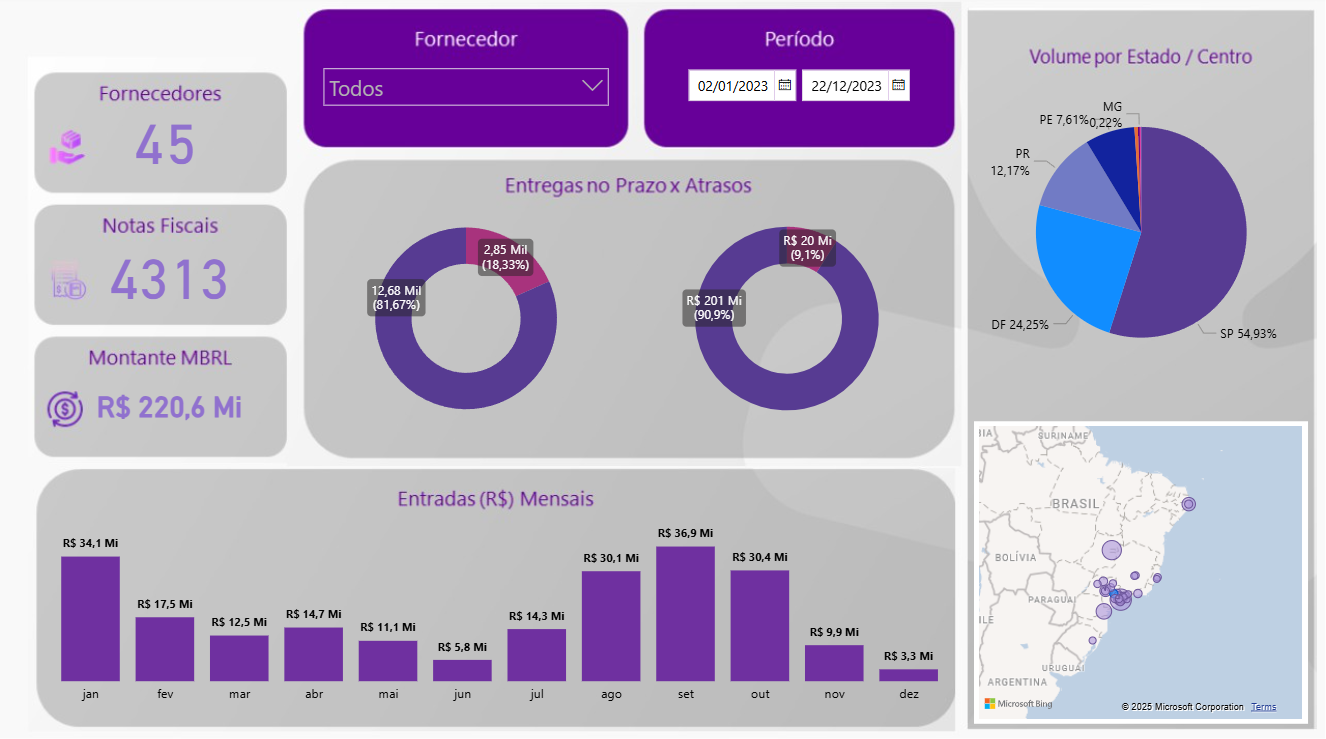

The page's visual inventory and layout, read from the dashboard file:
{"tool":"powerbi","page":{"name":"Dashboard","canvas":[1280,720],"ordinal":0},"visuals":[{"type":"slicer","fields":{"Values":["Recebimentos.Data"]},"box":[652.7,61.5,235.3,73.6],"z":0},{"type":"slicer","fields":{"Values":["Recebimentos.Fornecedor_1"]},"box":[302.8,60.3,295.6,59.1],"z":1000},{"type":"map","fields":{"Series":["Recebimentos.Nome Centro"],"Y":["Recebimentos.Latitude"],"X":["Recebimentos.Longitude"],"Size":["Sum(Recebimentos.Valor Líquido + IPI)"]},"box":[941,411.4,322.1,292],"z":2000},{"type":"clusteredColumnChart","fields":{"Y":["Sum(Recebimentos.Valor Líquido + IPI)"],"Category":["Recebimentos.Mês"]},"box":[26.5,498.3,914.5,194.2],"z":3000},{"type":"donutChart","fields":{"Series":["Recebimentos.Status"],"Y":["Sum(Recebimentos.Valor Líquido + IPI)"]},"box":[610,175.4,300.4,275.1],"z":4000},{"type":"card","fields":{"Values":["Count(Recebimentos.Fornecedor_1)"]},"box":[88.1,97.7,146,79.6],"z":5000},{"type":"card","fields":{"Values":["Count(Recebimentos.Nota Fiscal)"]},"box":[91.7,235.3,146,65.1],"z":6000},{"type":"card","fields":{"Values":["Sum(Recebimentos.Valor Líquido + IPI)"]},"box":[74.8,357.1,179.8,78.4],"z":7000},{"type":"donutChart","fields":{"Series":["Recebimentos.Status"],"Y":["CountNonNull(Recebimentos.Nota Fiscal)"]},"box":[282.6,185.9,337.4,253],"z":8000},{"type":"pieChart","fields":{"Y":["Sum(Recebimentos.Valor Líquido + IPI)"],"Category":["Recebimentos.UF"]},"box":[925.3,76,354.7,306.4],"z":9000}]}

Visuals, with their boxes in screenshot pixels (x1, y1, x2, y2), scaled from the page's 1280x720 canvas onto the 1326x739 screenshot:
slicer - Recebimentos.Data: [676, 63, 920, 139]
slicer - Recebimentos.Fornecedor_1: [314, 62, 620, 123]
map - Recebimentos.Nome Centro x Recebimentos.Latitude: [975, 422, 1308, 722]
clusteredColumnChart - Sum(Recebimentos.Valor Líquido + IPI) x Recebimentos.Mês: [27, 511, 975, 711]
donutChart - Recebimentos.Status x Sum(Recebimentos.Valor Líquido + IPI): [632, 180, 943, 462]
card - Count(Recebimentos.Fornecedor_1): [91, 100, 243, 182]
card - Count(Recebimentos.Nota Fiscal): [95, 242, 246, 308]
card - Sum(Recebimentos.Valor Líquido + IPI): [77, 367, 264, 447]
donutChart - Recebimentos.Status x CountNonNull(Recebimentos.Nota Fiscal): [293, 191, 642, 450]
pieChart - Sum(Recebimentos.Valor Líquido + IPI) x Recebimentos.UF: [959, 78, 1325, 392]
